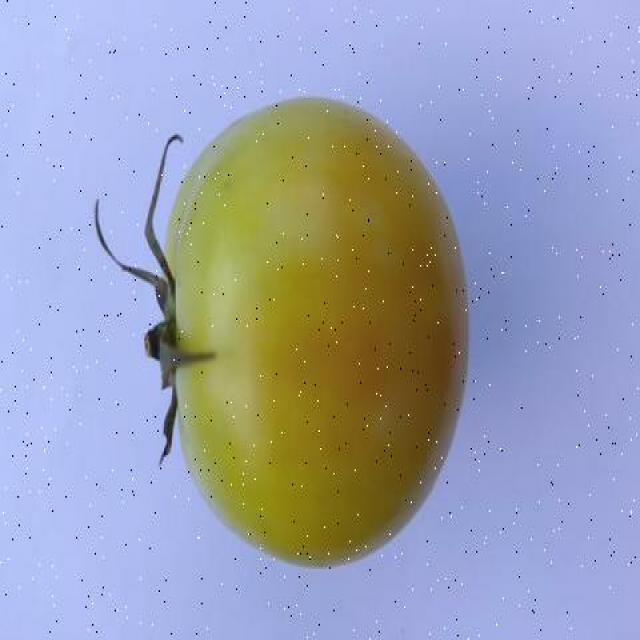tomato: (165, 96, 469, 571)
